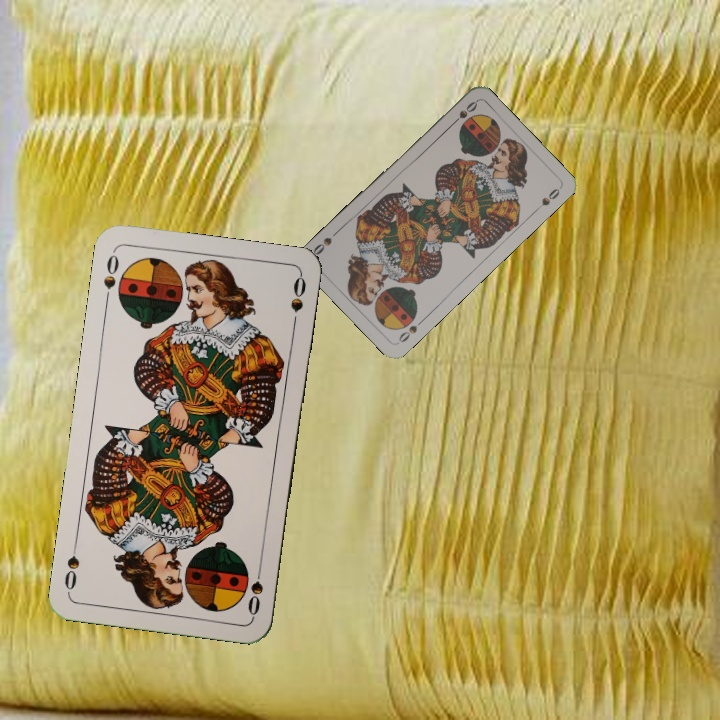SO: (243, 559, 266, 618), (99, 247, 122, 306), (447, 97, 480, 129), (395, 315, 427, 345)
